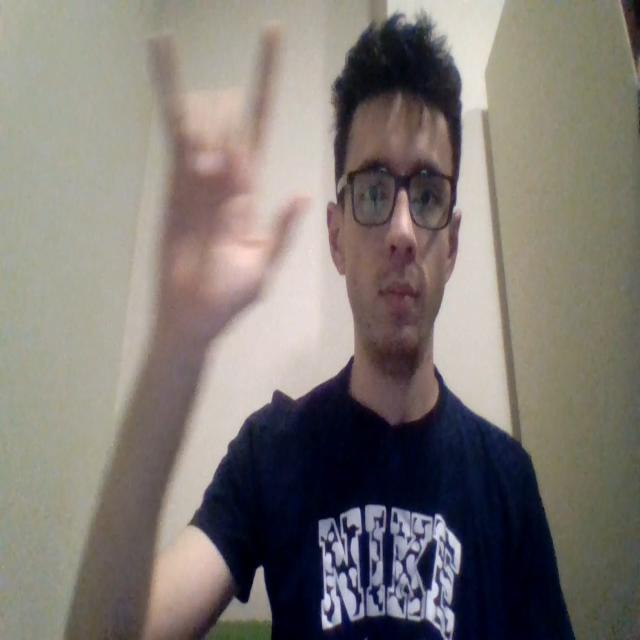iloveyou: (142, 23, 312, 350)
